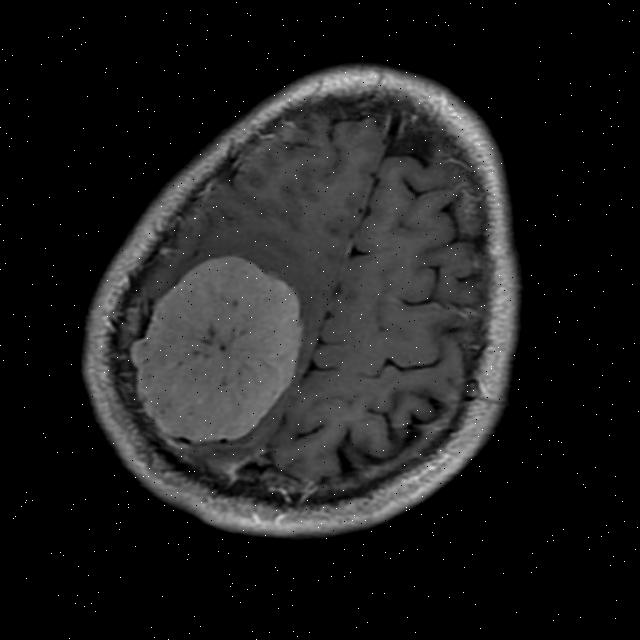Meningioma: (104, 234, 323, 466)
